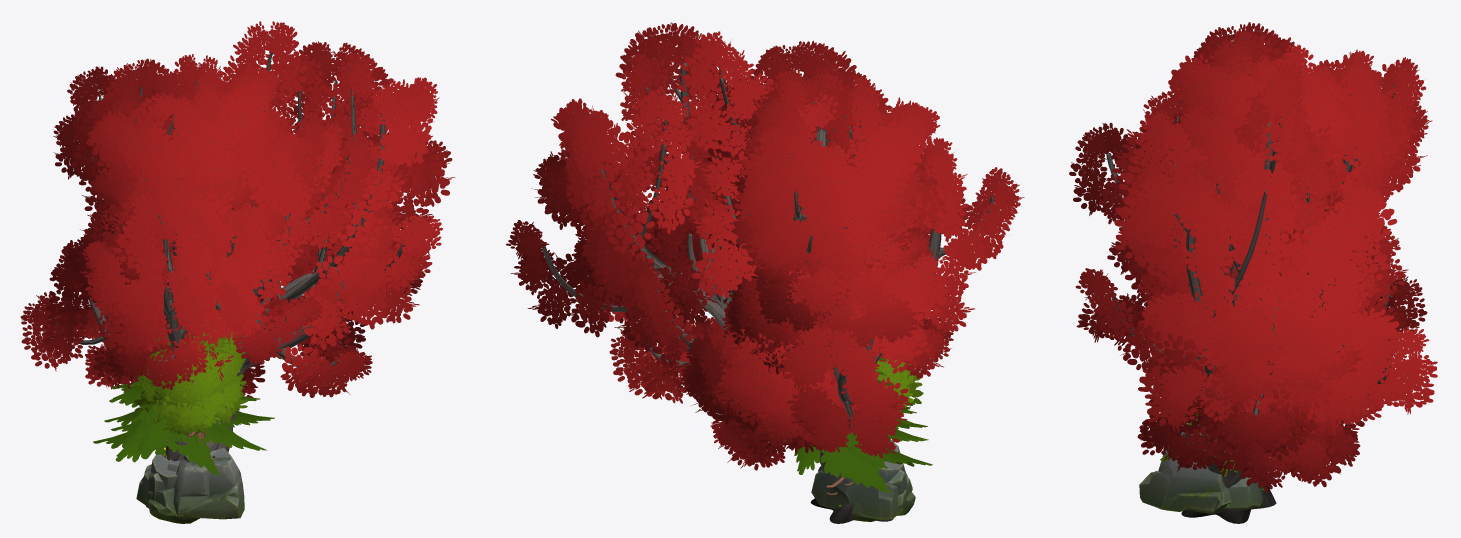
Rendered from kit-a.glb.
3 renders of one model, left to right at view 1: azimuth 30°, elevation 25°; view 2: azimuth 150°, elevation 25°; view 3: azimuth 270°, elevation 25°, orthographic. The views are drawn at different scales.
Visible parts, largest first — view 1: TwistedTree_3, TwistedTree_1, TwistedTree_5, Pine_5, Rock_Medium_3, CommonTree_1, CommonTree_2, CommonTree_3, Rock_Medium_1, Pine_1, Rock_Medium_2; view 2: TwistedTree_1, TwistedTree_3, TwistedTree_5, Pine_5, Rock_Medium_2; view 3: TwistedTree_1, TwistedTree_3, TwistedTree_5, Rock_Medium_3, Rock_Medium_2.
Part boxes in pixels (<box>): TwistedTree_3: <box>20,54,377,460</box>; TwistedTree_1: <box>106,21,455,508</box>; TwistedTree_5: <box>60,58,330,460</box>; Pine_5: <box>93,349,274,476</box>; Rock_Medium_3: <box>148,447,244,523</box>; CommonTree_1: <box>134,335,248,434</box>; CommonTree_2: <box>137,330,246,443</box>; CommonTree_3: <box>144,299,245,411</box>; Rock_Medium_1: <box>145,451,215,516</box>; Pine_1: <box>111,337,243,457</box>; Rock_Medium_2: <box>136,454,177,506</box>; TwistedTree_1: <box>506,22,929,523</box>; TwistedTree_3: <box>678,40,1024,470</box>; TwistedTree_5: <box>706,67,949,378</box>; Pine_5: <box>785,357,932,493</box>; Rock_Medium_2: <box>811,461,903,519</box>; TwistedTree_1: <box>1075,62,1437,523</box>; TwistedTree_3: <box>1069,28,1432,480</box>; TwistedTree_5: <box>1133,22,1426,319</box>; Rock_Medium_3: <box>1139,447,1225,511</box>; Rock_Medium_2: <box>1224,477,1262,509</box>.
Bounding box in the file's own units: 15.83 × 16.84 × 11.71.
Materials: 11 (11 with a texture image).
